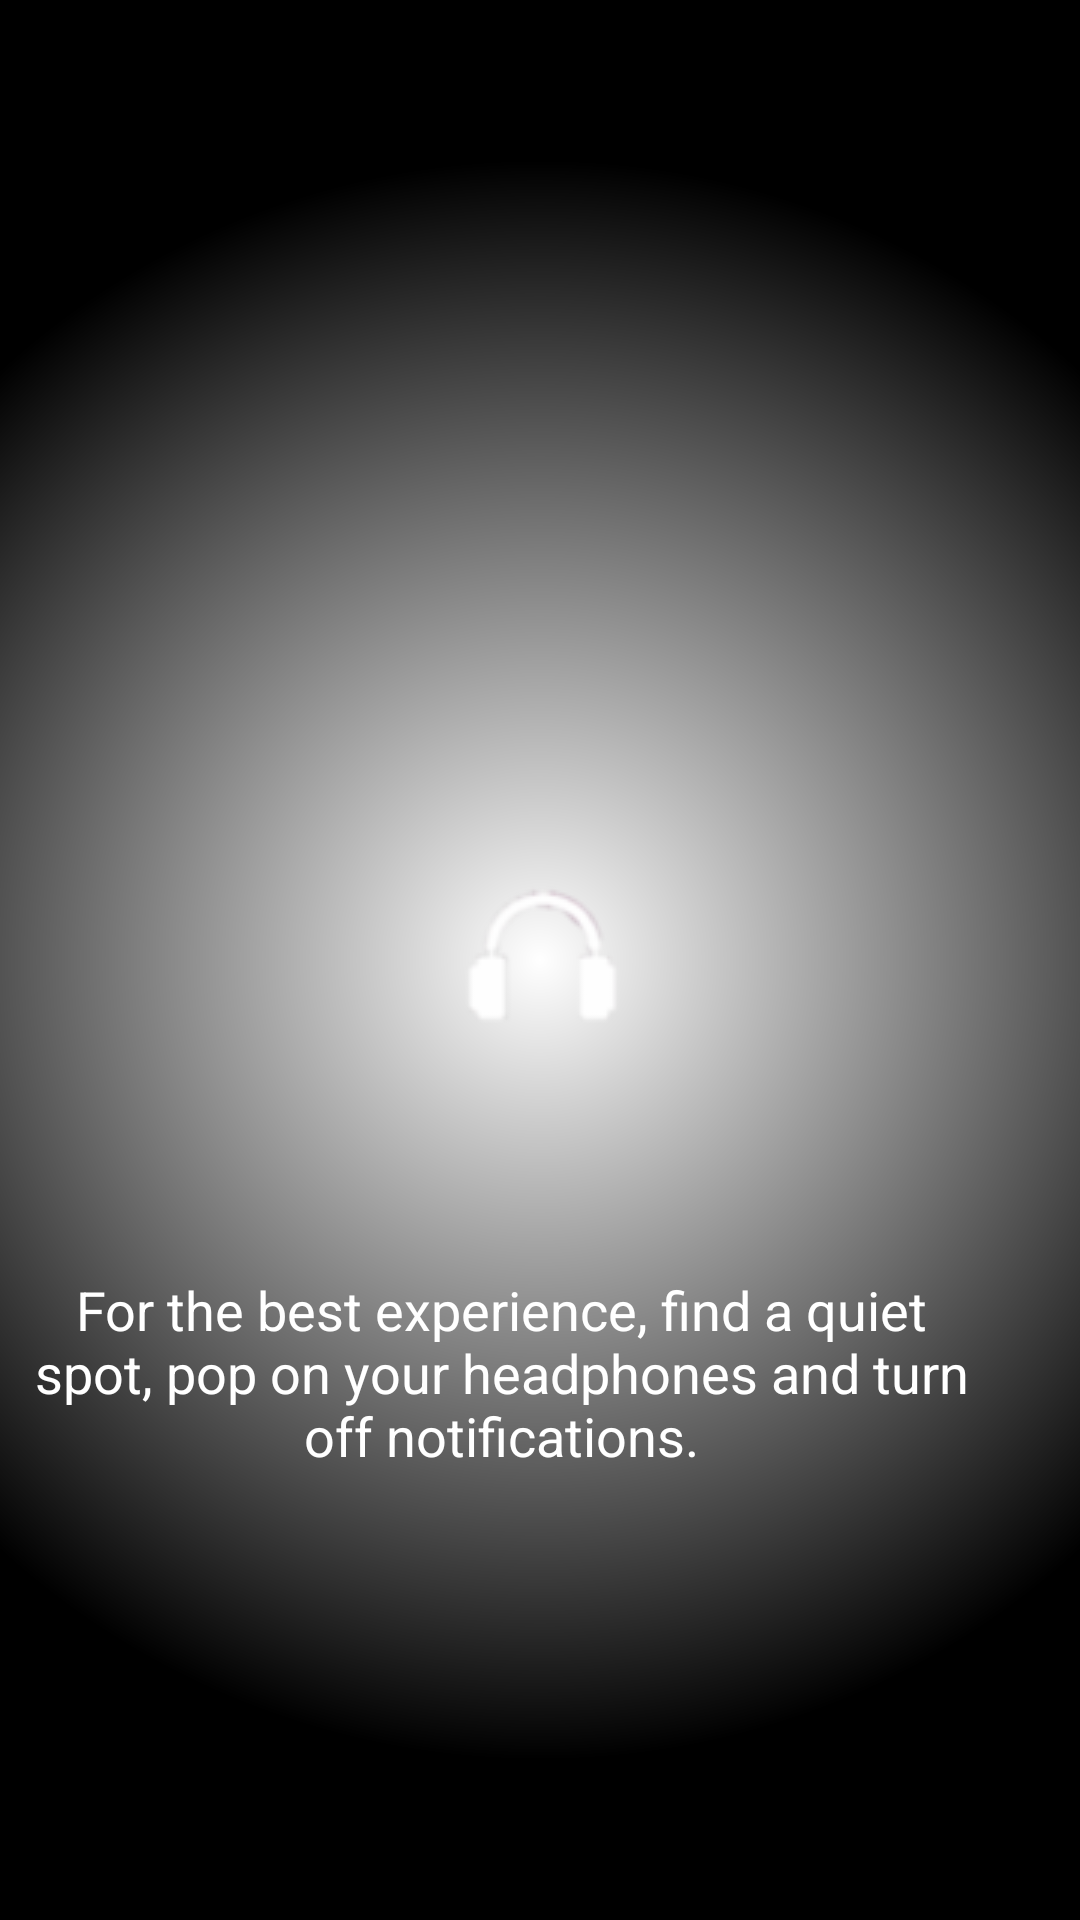

Where icons sit on this 1080*1920 app screen, as {"x1": x1, "y1": y1, "x2": x2, "y2": y2}:
headphones: {"x1": 470, "y1": 893, "x2": 615, "y2": 1019}
